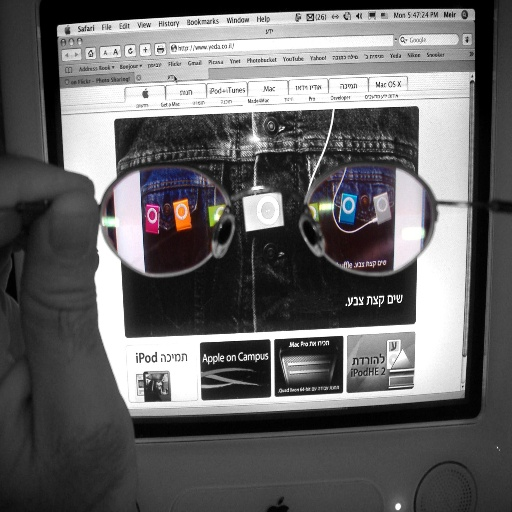hand: (0, 153, 138, 511)
